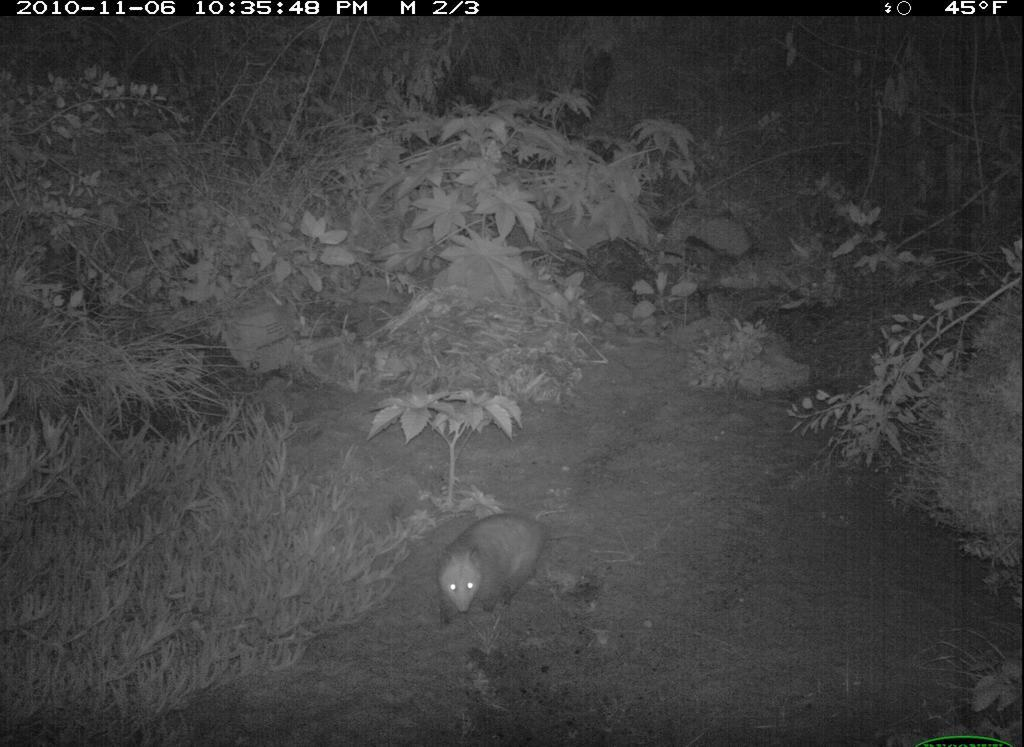opossum: (425, 506, 569, 629)
